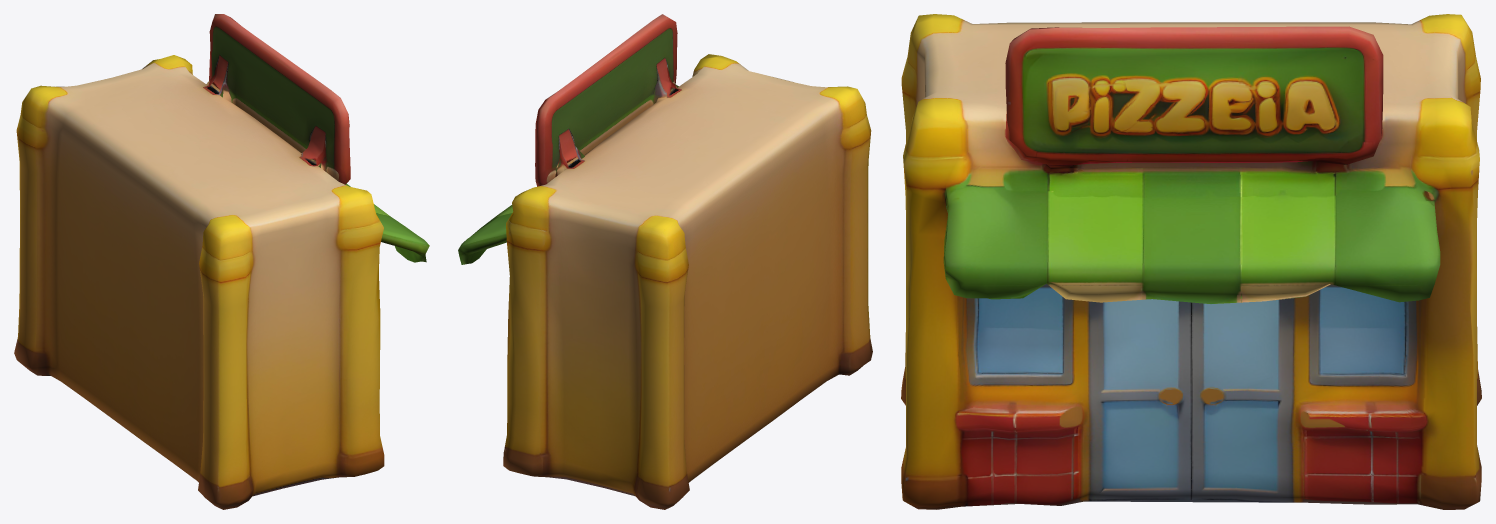
Rendered from pizzería+3d+modelo.fbx.
3 renders of one model, left to right at view 1: azimuth 30°, elevation 25°; view 2: azimuth 150°, elevation 25°; view 3: azimuth 270°, elevation 25°, orthographic. The views are drawn at different scales.
Visible parts, largest first — view 1: tripo_node_edea3945; view 2: tripo_node_edea3945; view 3: tripo_node_edea3945.
Boxes of the visible parts, x1,y1,x2,y2 form: tripo_node_edea3945: (14, 14, 429, 509); tripo_node_edea3945: (458, 14, 872, 509); tripo_node_edea3945: (901, 14, 1481, 509).
Bounding box in the file's own units: 0.6436 × 0.9176 × 0.9947.
Materials: 1 (1 with a texture image).
